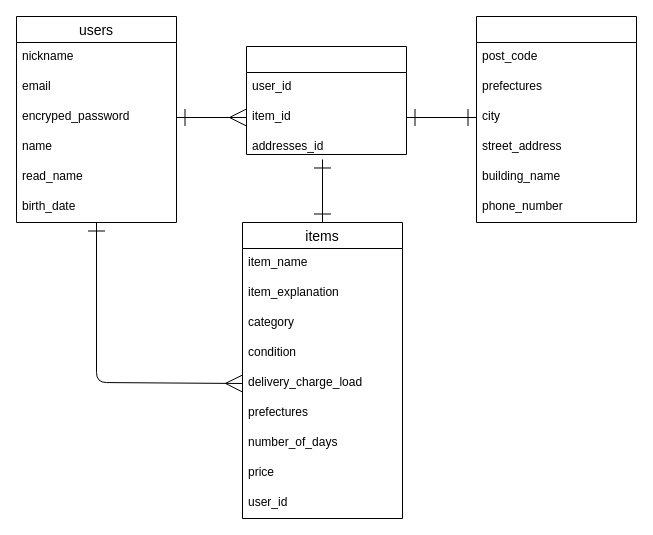
Image size: 653x535. Some labels were removed from this diagram. Here are the shapes that lost their labels. From the top down, the box of each, then its label:
(246, 46, 406, 154): purchase_record
(476, 16, 636, 222): addresses
